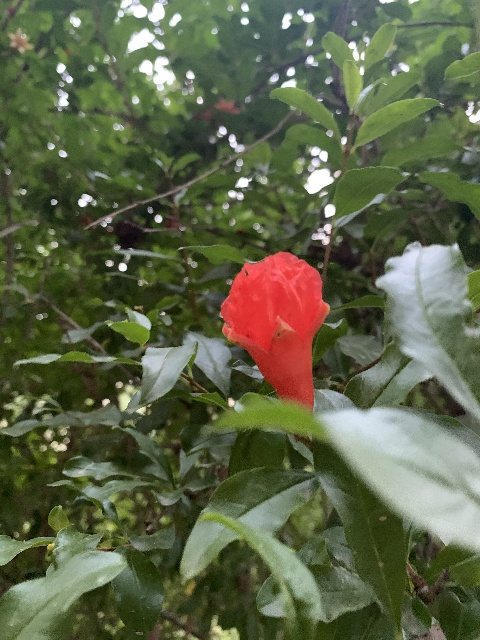flower: (220, 251, 330, 412)
